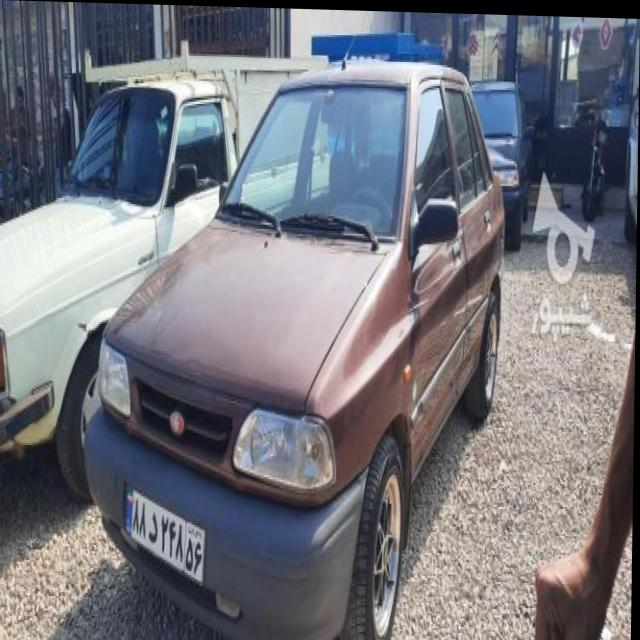licence: (123, 481, 208, 586)
